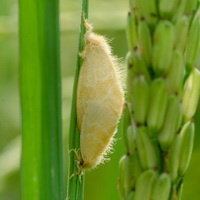insect: (73, 21, 123, 174)
